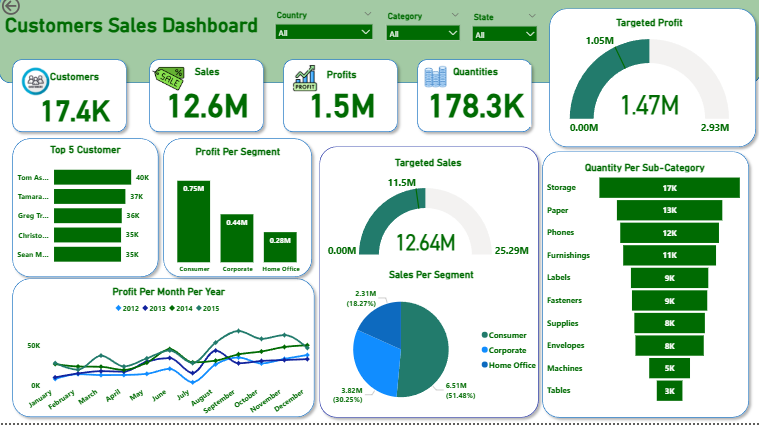

This screenshot's page, from the dashboard's own definition file:
{"tool":"powerbi","page":{"name":"Page 2","canvas":[1280,720],"ordinal":0},"visuals":[{"type":"shape","box":[0,0,1280.3,149.6],"z":0},{"type":"shape","box":[13.7,101.5,209.9,140],"z":1000},{"type":"shape","box":[244.3,101.5,209.9,140],"z":2000},{"type":"shape","box":[469.3,101.5,209.9,140],"z":3000},{"type":"shape","box":[13.7,233.3,263.5,251.1],"z":4000},{"type":"shape","box":[13.7,469.3,525.6,251.1],"z":5000},{"type":"shape","box":[915.3,15.1,365,251.1],"z":6000},{"type":"shape","box":[904.3,255.2,365,465.2],"z":7000},{"type":"shape","box":[529.1,246.9,386.4,473.7],"z":8000},{"type":"shape","box":[267.6,233.3,267.6,251.1],"z":9000},{"type":"shape","box":[694.3,101.5,209.9,140],"z":10000},{"type":"card","title":" Customers","fields":{"Values":["Sales.Customer ID"]},"box":[49.4,127.6,156.4,105.7],"z":11000},{"type":"card","title":"Sales","fields":{"Values":["Sales.Sales"]},"box":[263.5,119.4,171.5,104.3],"z":12000},{"type":"card","title":"Profits","fields":{"Values":["Sales.Profit"]},"box":[487.1,123.5,177,94.7],"z":13000},{"type":"card","title":"Quantities","fields":{"Values":["Sales.Quantity"]},"box":[706.7,119.4,186.6,104.3],"z":14000},{"type":"lineChart","title":"Profit Per Month Per Year","fields":{"Y":["Sales.Profit"],"Series":["Sales.Order Date.Variation.Date Hierarchy.Year"],"Category":["Sales.Order Date.Variation.Date Hierarchy.Month"]},"box":[32,488.5,506.3,232],"z":15000},{"type":"clusteredBarChart","title":"Top 5 Customer ","fields":{"Category":["Sales.Customer Name"],"Y":["Sales.Sales"]},"box":[13.7,251.1,263.5,218.2],"z":16000},{"type":"clusteredColumnChart","title":"Profit Per Segment","fields":{"Category":["Sales.Segment"],"Y":["Sales.Profit"]},"box":[265,253,271.7,226],"z":17000},{"type":"funnel","title":"Quantity Per Sub-Category","fields":{"Y":["Sales.Quantity"],"Category":["Sales.Sub-Category"]},"box":[915.3,281.3,338.9,411.7],"z":18000},{"type":"gauge","title":" Targeted Profit","fields":{"Y":["Sales.Profit"],"TargetValue":["Sales.Profit Target"]},"box":[915.3,37,354,208.6],"z":19000},{"type":"textbox","title":"Customers Sales Dashboard","box":[5.5,32.9,522.8,65.9],"z":20000},{"type":"slicer","fields":{"Values":["Sales.Country"]},"box":[454.2,22,185.2,76.8],"z":21000},{"type":"slicer","fields":{"Values":["Sales.Category"]},"box":[639.5,23.3,145.5,83.7],"z":22000},{"type":"slicer","fields":{"Values":["Sales.State"]},"box":[784.9,24.7,130.4,83.7],"z":23000},{"type":"actionButton","box":[0,0,100,40],"z":24000},{"type":"image","box":[252.5,109.8,65.9,63.1],"z":25000},{"type":"image","box":[487.1,113.9,53.5,53.5],"z":26000},{"type":"image","box":[705.3,113.9,54.9,49.4],"z":27000},{"type":"image","box":[31.6,113.9,57.6,63.1],"z":28000},{"type":"pieChart","title":" Sales Per Segment","fields":{"Y":["Sales.Sales"],"Category":["Sales.Segment"]},"box":[535.1,459.6,380.7,259.6],"z":29002},{"type":"gauge","title":"Targeted Sales ","fields":{"TargetValue":["Sales.Sales Target"],"Y":["Sales.Sales"]},"box":[536.8,271.9,366.7,175.4],"z":29003}]}

Visuals, with their boxes in screenshot pixels (x1, y1, x2, y2), scaled from the page's 1280x720 canvas onto the 759x427 screenshot:
shape: region(0, 0, 758, 89)
shape: region(8, 60, 133, 143)
shape: region(145, 60, 269, 143)
shape: region(278, 60, 403, 143)
shape: region(8, 138, 164, 287)
shape: region(8, 278, 320, 426)
shape: region(543, 9, 758, 158)
shape: region(536, 151, 753, 426)
shape: region(314, 146, 543, 426)
shape: region(159, 138, 317, 287)
shape: region(412, 60, 536, 143)
" Customers" card: region(29, 76, 122, 138)
"Sales" card: region(156, 71, 258, 133)
"Profits" card: region(289, 73, 394, 129)
"Quantities" card: region(419, 71, 530, 133)
"Profit Per Month Per Year" lineChart: region(19, 290, 319, 426)
"Top 5 Customer " clusteredBarChart: region(8, 149, 164, 278)
"Profit Per Segment" clusteredColumnChart: region(157, 150, 318, 284)
"Quantity Per Sub-Category" funnel: region(543, 167, 744, 411)
" Targeted Profit" gauge: region(543, 22, 753, 146)
"Customers Sales Dashboard" textbox: region(3, 20, 313, 59)
slicer - Sales.Country: region(269, 13, 379, 59)
slicer - Sales.Category: region(379, 14, 465, 63)
slicer - Sales.State: region(465, 15, 543, 64)
actionButton: region(0, 0, 59, 24)
image: region(150, 65, 189, 103)
image: region(289, 68, 321, 99)
image: region(418, 68, 451, 97)
image: region(19, 68, 53, 105)
" Sales Per Segment" pieChart: region(317, 273, 543, 426)
"Targeted Sales " gauge: region(318, 161, 536, 265)
